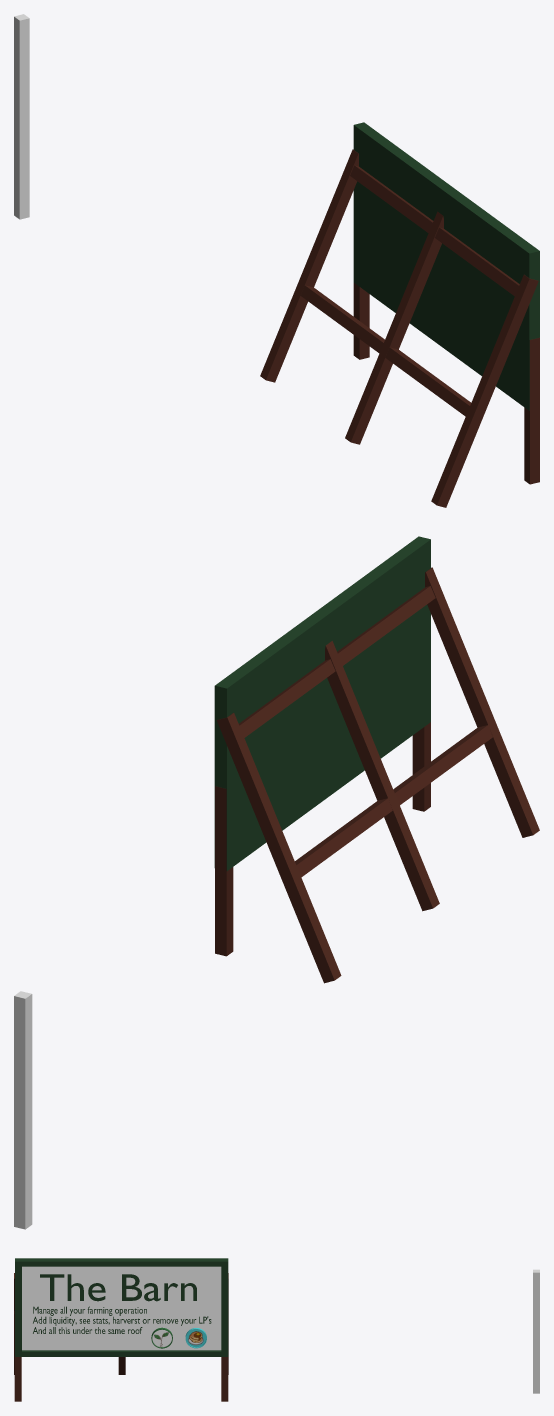
The model's file is TheBarnBillboard.glb.
3 views of the same model, one above another, from view 1: azimuth 30°, elevation 25°; view 2: azimuth 150°, elevation 25°; view 3: azimuth 270°, elevation 25° (orthographic). The views are drawn at different scales.
Parts seen in each view (by area): view 1: BilboardBox, FeetBackLeft, FeetBackRight, FeetBackCenter, ExtraBeam, SupportBackBottom, SupportBackTop, FeetFrontLeft, FeetFrontRight; view 2: BilboardBox, FeetBackRight, FeetBackLeft, FeetBackCenter, ExtraBeam, SupportBackBottom, SupportBackTop, FeetFrontRight, FeetFrontLeft; view 3: BilboardBox, TheBarn, ManageYourFarmingP1, ExtraBeam, FeetFrontLeft, PlantToken, CakeTokenTexture, FeetFrontRight, ManageYourFarmingP2.
Part boxes in pixels (x1,y1,x2,y2): BilboardBox: (353,122,539,410); FeetBackLeft: (431,274,538,507); FeetBackRight: (260,149,358,382); FeetBackCenter: (345,211,443,444); ExtraBeam: (14,14,29,219); SupportBackBottom: (300,285,470,416); SupportBackTop: (350,165,519,296); FeetFrontLeft: (524,337,539,484); FeetFrontRight: (353,283,369,359); BilboardBox: (214,536,430,870); FeetBackRight: (216,712,341,983); FeetBackLeft: (425,567,539,837); FeetBackCenter: (325,641,439,911); ExtraBeam: (14,991,32,1229); SupportBackBottom: (295,725,492,877); SupportBackTop: (239,586,435,737); FeetFrontRight: (215,786,233,956); FeetFrontLeft: (412,722,430,811); BilboardBox: (15,1258,228,1356); TheBarn: (40,1274,196,1301); ManageYourFarmingP1: (33,1306,211,1325); ExtraBeam: (533,1269,539,1393); FeetFrontLeft: (14,1311,21,1401); PlantToken: (151,1327,172,1348); CakeTokenTexture: (185,1328,206,1348); FeetFrontRight: (221,1357,228,1401); ManageYourFarmingP2: (33,1327,142,1333).
Size of the model in its own units: 1.7 by 4.04 by 12.28.
Materials: 5 (2 with a texture image).
